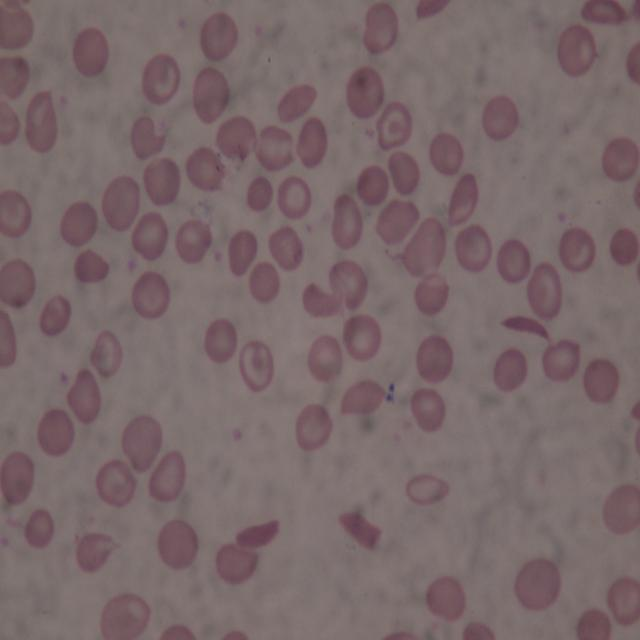Crystal: (338, 512, 385, 552), (231, 519, 282, 552), (576, 0, 631, 28), (411, 0, 452, 24)
Normal: (342, 313, 382, 359), (277, 175, 313, 220), (307, 335, 342, 379)
Others: (401, 216, 446, 276), (98, 592, 152, 638), (120, 413, 162, 471), (555, 25, 596, 82), (191, 65, 230, 122), (346, 66, 386, 121), (517, 560, 561, 610), (212, 542, 263, 585), (103, 173, 139, 233), (141, 51, 180, 106), (599, 482, 638, 537), (376, 196, 418, 247), (94, 458, 137, 507), (66, 367, 102, 425), (24, 90, 58, 151), (423, 574, 468, 620), (199, 12, 238, 64), (527, 263, 562, 320), (147, 451, 186, 502), (2, 449, 36, 506), (238, 337, 272, 394), (186, 145, 228, 191), (130, 212, 170, 260), (157, 519, 197, 567), (330, 260, 369, 309), (339, 376, 384, 418), (295, 403, 334, 451), (254, 125, 294, 171), (130, 271, 170, 317), (452, 224, 492, 270), (73, 27, 109, 78), (362, 3, 398, 54), (416, 334, 454, 382), (60, 202, 99, 248), (36, 409, 75, 455), (413, 272, 452, 318), (330, 195, 362, 251), (268, 224, 306, 271), (375, 103, 413, 150), (556, 225, 594, 272), (582, 358, 620, 405), (446, 172, 478, 227), (542, 339, 582, 383), (1, 259, 36, 309), (216, 114, 254, 160), (174, 219, 212, 265), (600, 136, 638, 182), (143, 156, 180, 203), (89, 327, 123, 378), (410, 387, 446, 434), (606, 573, 640, 622), (427, 129, 464, 174), (0, 188, 33, 238), (497, 236, 532, 283), (131, 117, 167, 162), (482, 96, 518, 141), (202, 316, 235, 365), (75, 531, 116, 569), (494, 345, 529, 389), (277, 85, 316, 124), (386, 148, 419, 194), (297, 116, 327, 166), (0, 54, 31, 102), (356, 164, 390, 207), (0, 7, 34, 49), (302, 282, 341, 318), (406, 474, 450, 504), (73, 248, 109, 284), (575, 606, 613, 640), (230, 228, 257, 275), (40, 296, 71, 336), (25, 508, 56, 548), (248, 264, 279, 302), (610, 229, 638, 265), (0, 97, 20, 147), (245, 178, 272, 208), (460, 617, 495, 640), (624, 40, 640, 87), (0, 305, 17, 348), (156, 624, 197, 640), (220, 628, 248, 639), (632, 178, 640, 210)
Sickle: (498, 314, 553, 345)
